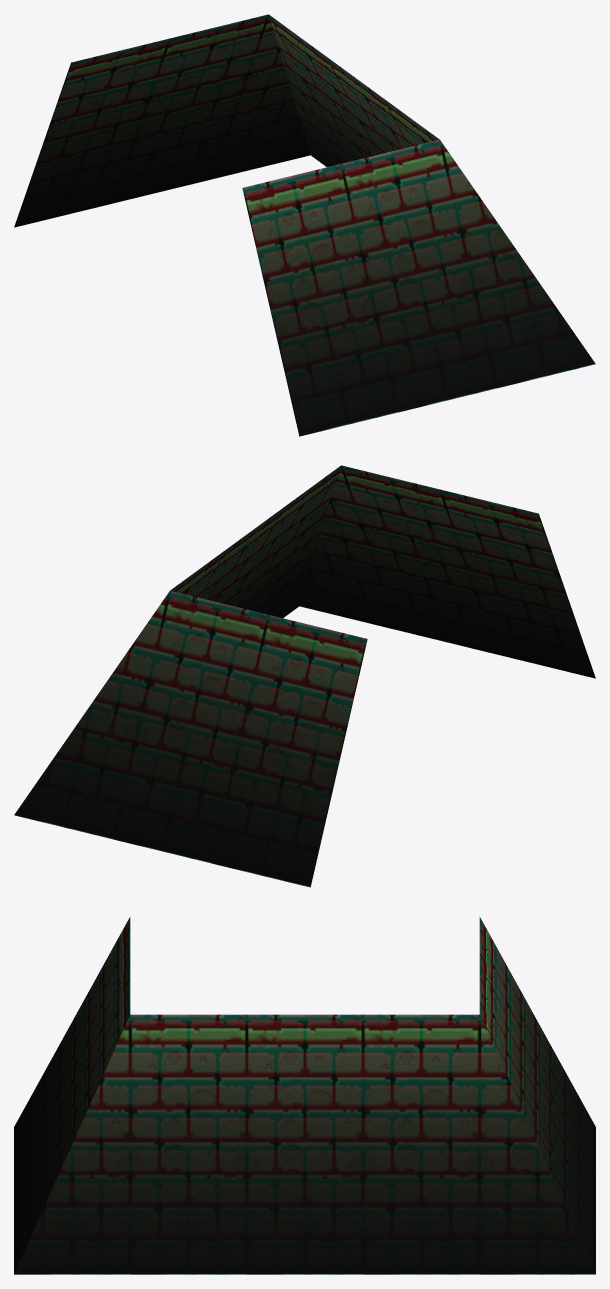
Rendered from arch_cathedral_wallBottom_cornerOutDouble.FBX.
3 renders of one model, top to bottom at view 1: azimuth 30°, elevation 25°; view 2: azimuth 150°, elevation 25°; view 3: azimuth 270°, elevation 25°, orthographic.
Parts seen in each view (by area): view 1: arch_cathedral_wallBottom_cornerOutDouble; view 2: arch_cathedral_wallBottom_cornerOutDouble; view 3: arch_cathedral_wallBottom_cornerOutDouble.
Boxes of the visible parts, x1,y1,x2,y2 form: arch_cathedral_wallBottom_cornerOutDouble: (14,14,595,436); arch_cathedral_wallBottom_cornerOutDouble: (14,465,595,887); arch_cathedral_wallBottom_cornerOutDouble: (14,917,595,1274).
Size of the model in its own units: 6 by 4 by 10.
1 material, 1 textured.
